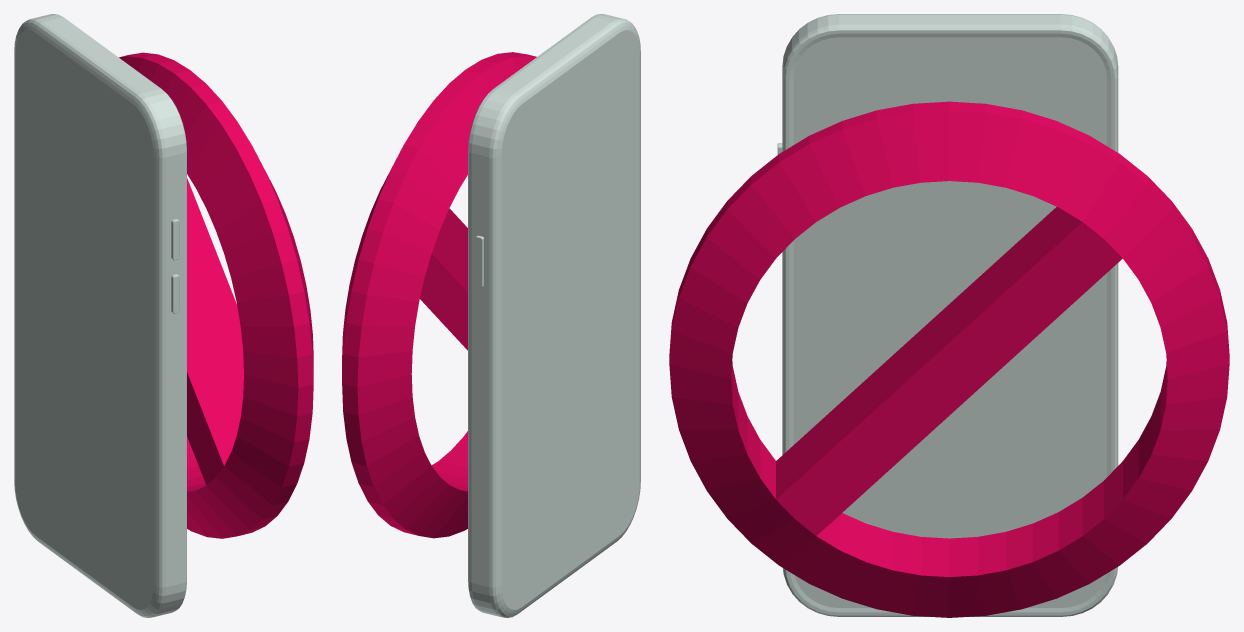
The model's file is mobile.glb.
3 renders of one model, left to right at view 1: azimuth 30°, elevation 25°; view 2: azimuth 150°, elevation 25°; view 3: azimuth 270°, elevation 25°, orthographic. The views are drawn at different scales.
Parts seen in each view (by area): view 1: Cube, Torus.001; view 2: Cube, Torus.001; view 3: Torus.001, Cube.
Boxes of the visible parts, x1,y1,x2,y2 form: Cube: (14,14,186,617); Torus.001: (119,52,313,538); Cube: (468,14,640,617); Torus.001: (342,52,536,538); Torus.001: (669,101,1229,617); Cube: (777,14,1118,616).
Size of the model in its own units: 1.13 by 4.23 by 3.63.
